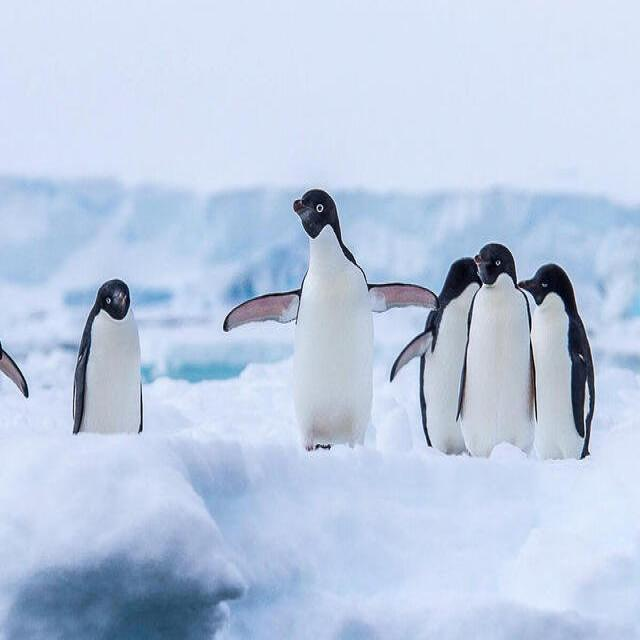penguin: (223, 188, 434, 449), (390, 257, 479, 453), (461, 243, 535, 456), (519, 263, 594, 459), (73, 279, 142, 433)
